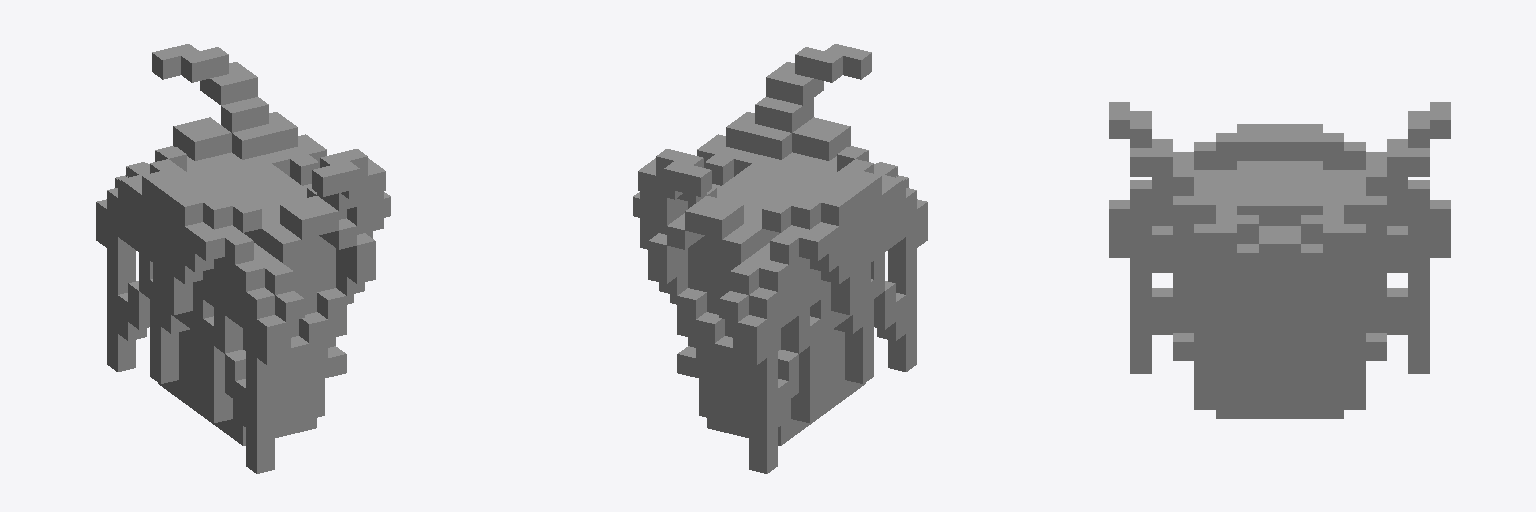
File: chaotic_body.obj
The picture shows the model from 3 angles: view 1: azimuth 30°, elevation 25°; view 2: azimuth 150°, elevation 25°; view 3: azimuth 270°, elevation 25°; orthographic projection.
Parts seen in each view (by area): view 1: chaotic_body; view 2: chaotic_body; view 3: chaotic_body.
Part boxes in pixels (bbox=[...]): chaotic_body: bbox=[96, 44, 390, 473]; chaotic_body: bbox=[633, 44, 927, 473]; chaotic_body: bbox=[1109, 102, 1450, 418].
Bounding box in the file's own units: 10 × 15 × 16.